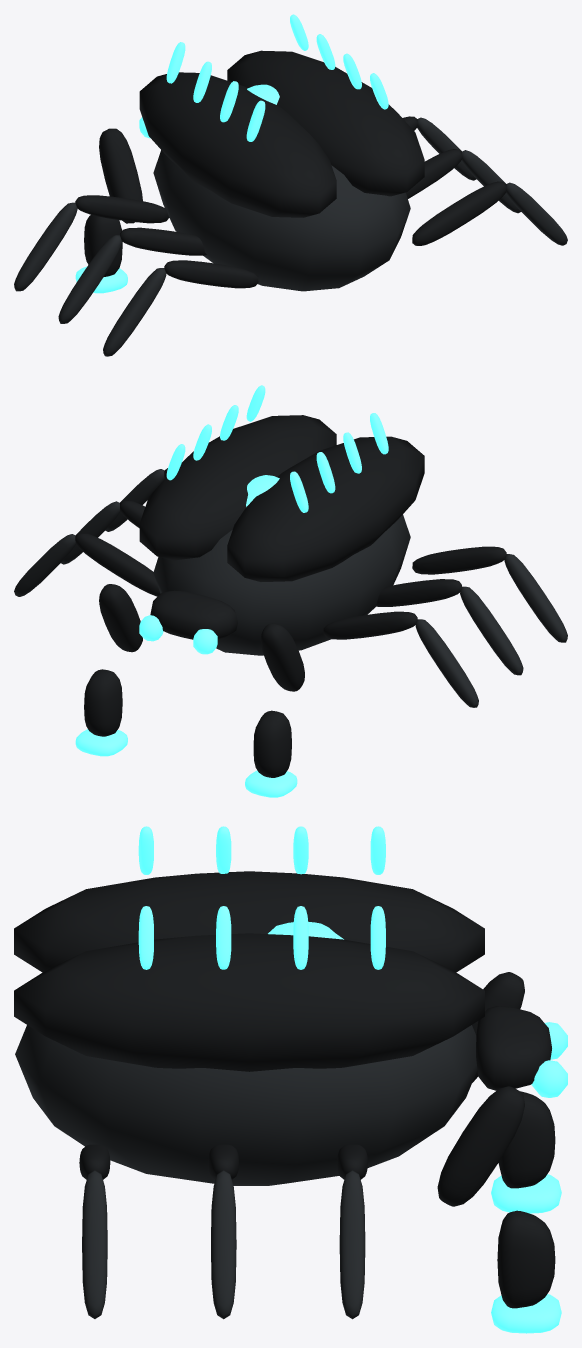
The model's file is warden.glb.
3 views of the same model, one above another, from view 1: azimuth 30°, elevation 25°; view 2: azimuth 150°, elevation 25°; view 3: azimuth 270°, elevation 25° (orthographic). The views are drawn at different scales.
Parts seen in each view (by area): view 1: trunk, carapaceL, carapaceR, leg_upperR2, arm_upperL, leg_upperL2, leg_upperL0, leg_lowerL0, leg_lowerL2, leg_lowerL1, leg_upperL1, arm_lowerL (+9 smaller); view 2: carapaceL, trunk, carapaceR, brow, arm_lowerR, arm_lowerL, arm_upperL, leg_upperR0, arm_upperR, leg_upperL0, leg_upperL2, leg_lowerL1 (+10 smaller); view 3: carapaceR, trunk, carapaceL, arm_upperR, brow, arm_lowerR, arm_lowerL, leg_lowerR2, leg_lowerR1, leg_lowerR0, knuckleR, knuckleL (+14 smaller).
Boxes of the visible parts, x1=… form: trunk: x1=153, y1=150, x2=410, y2=291; carapaceL: x1=139, y1=72, x2=336, y2=217; carapaceR: x1=227, y1=50, x2=424, y2=196; leg_upperR2: x1=412, y1=181, x2=506, y2=245; arm_upperL: x1=99, y1=128, x2=142, y2=223; leg_upperL2: x1=164, y1=260, x2=258, y2=288; leg_upperL0: x1=75, y1=195, x2=169, y2=223; leg_lowerL0: x1=14, y1=202, x2=77, y2=291; leg_lowerL2: x1=103, y1=268, x2=166, y2=356; leg_lowerL1: x1=58, y1=235, x2=121, y2=323; leg_upperL1: x1=120, y1=227, x2=206, y2=255; arm_lowerL: x1=84, y1=215, x2=122, y2=276; carapaceL: x1=227, y1=436, x2=424, y2=581; trunk: x1=153, y1=514, x2=410, y2=655; carapaceR: x1=139, y1=415, x2=336, y2=560; brow: x1=150, y1=590, x2=237, y2=639; arm_lowerR: x1=84, y1=669, x2=122, y2=736; arm_lowerL: x1=253, y1=710, x2=291, y2=777; arm_upperL: x1=260, y1=623, x2=304, y2=691; leg_upperR0: x1=75, y1=533, x2=160, y2=596; arm_upperR: x1=99, y1=584, x2=142, y2=652; leg_upperL0: x1=323, y1=611, x2=417, y2=639; leg_upperL2: x1=412, y1=546, x2=506, y2=574; leg_lowerL1: x1=460, y1=586, x2=523, y2=675; carapaceR: x1=14, y1=933, x2=484, y2=1071; trunk: x1=15, y1=1025, x2=477, y2=1185; carapaceL: x1=14, y1=871, x2=484, y2=972; arm_upperR: x1=437, y1=1086, x2=524, y2=1206; brow: x1=476, y1=1006, x2=551, y2=1090; arm_lowerR: x1=497, y1=1210, x2=555, y2=1308; arm_lowerL: x1=498, y1=1091, x2=555, y2=1188; leg_lowerR2: x1=82, y1=1170, x2=107, y2=1318; leg_lowerR1: x1=211, y1=1170, x2=236, y2=1319; leg_lowerR0: x1=339, y1=1170, x2=365, y2=1319; knuckleR: x1=491, y1=1294, x2=561, y2=1333; knuckleL: x1=491, y1=1174, x2=561, y2=1213.
Size of the model in its own units: 6.02 by 3.41 by 4.3.
